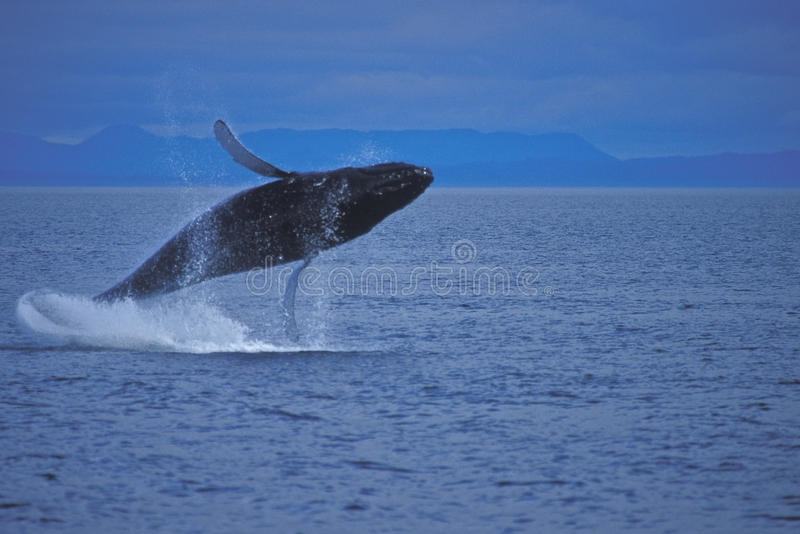humpback: (97, 160, 435, 303)
